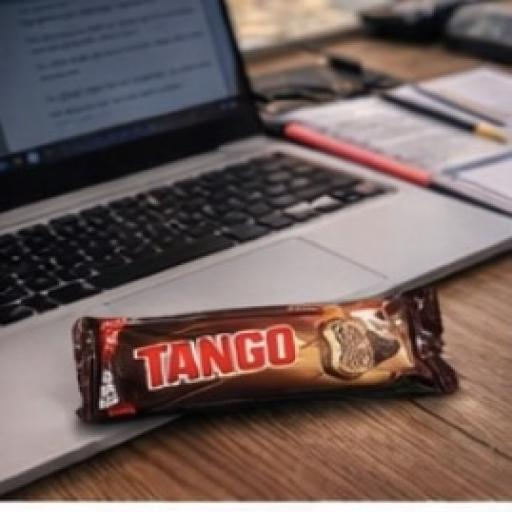tango: (48, 265, 474, 464)
